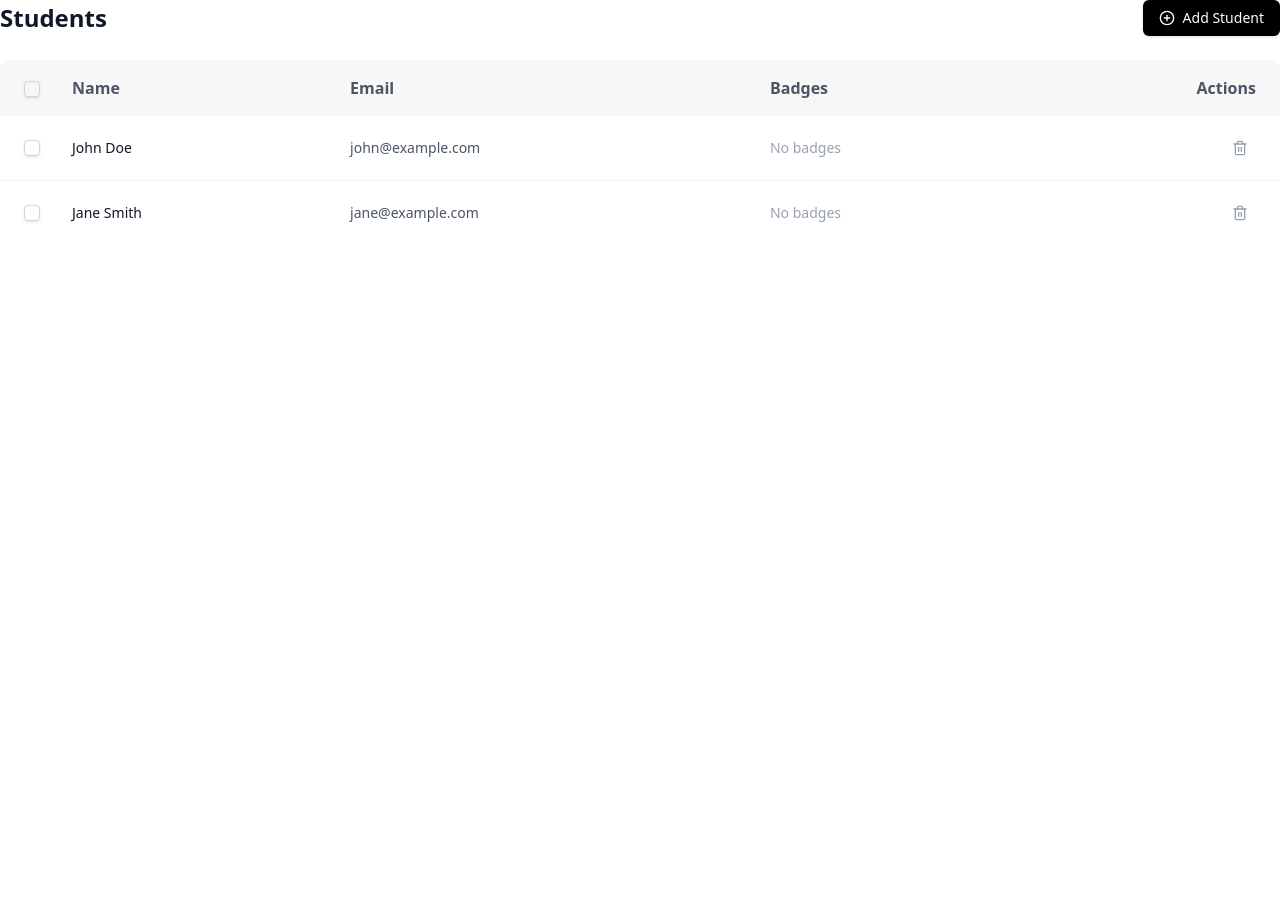
StudentDashboard › opens add student dialog when clicking add button
Click the button "Add Student": x=1211, y=18 [1143,0,1279,36]
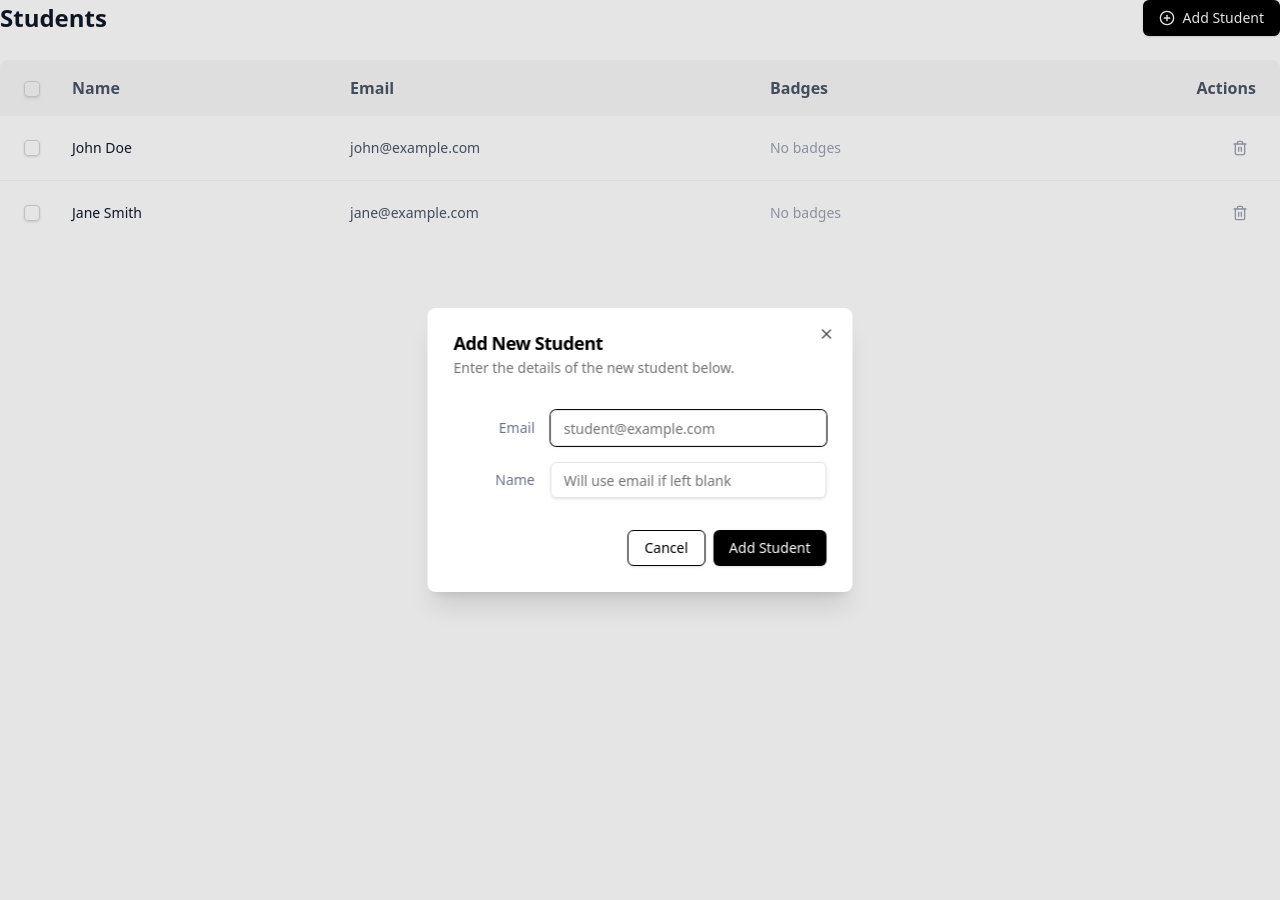
Now the dialog is shown, box [428,308,852,592]
Now the heading "Add New Student" is shown, box [454,331,603,355]
